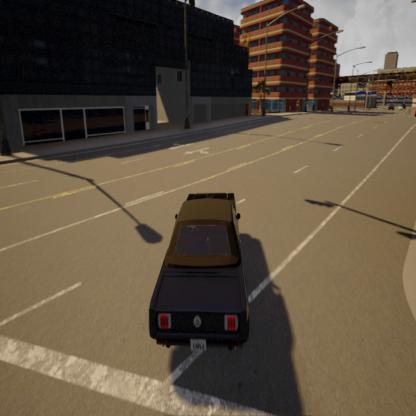Cars: (146, 181, 252, 351)
